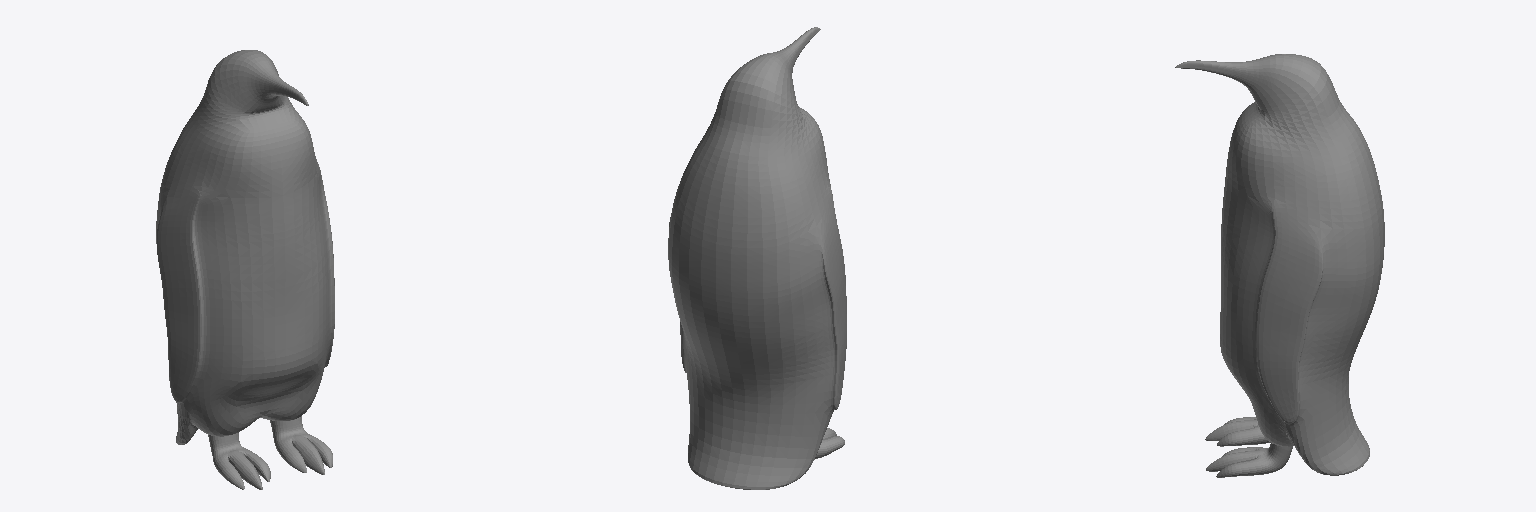
Rendered from penguin.obj.
The picture shows the model from 3 angles: view 1: azimuth 30°, elevation 25°; view 2: azimuth 150°, elevation 25°; view 3: azimuth 270°, elevation 25°; orthographic projection.
Visible parts, largest first — view 1: 10033_Penguin_v1_iterations-2; view 2: 10033_Penguin_v1_iterations-2; view 3: 10033_Penguin_v1_iterations-2.
Part boxes in pixels (left/top/right/bottom): 10033_Penguin_v1_iterations-2: left=156, top=50, right=334, bottom=489; 10033_Penguin_v1_iterations-2: left=668, top=27, right=846, bottom=489; 10033_Penguin_v1_iterations-2: left=1175, top=54, right=1384, bottom=477.
Bounding box in the file's own units: 0.867 × 2.07 × 0.9823.